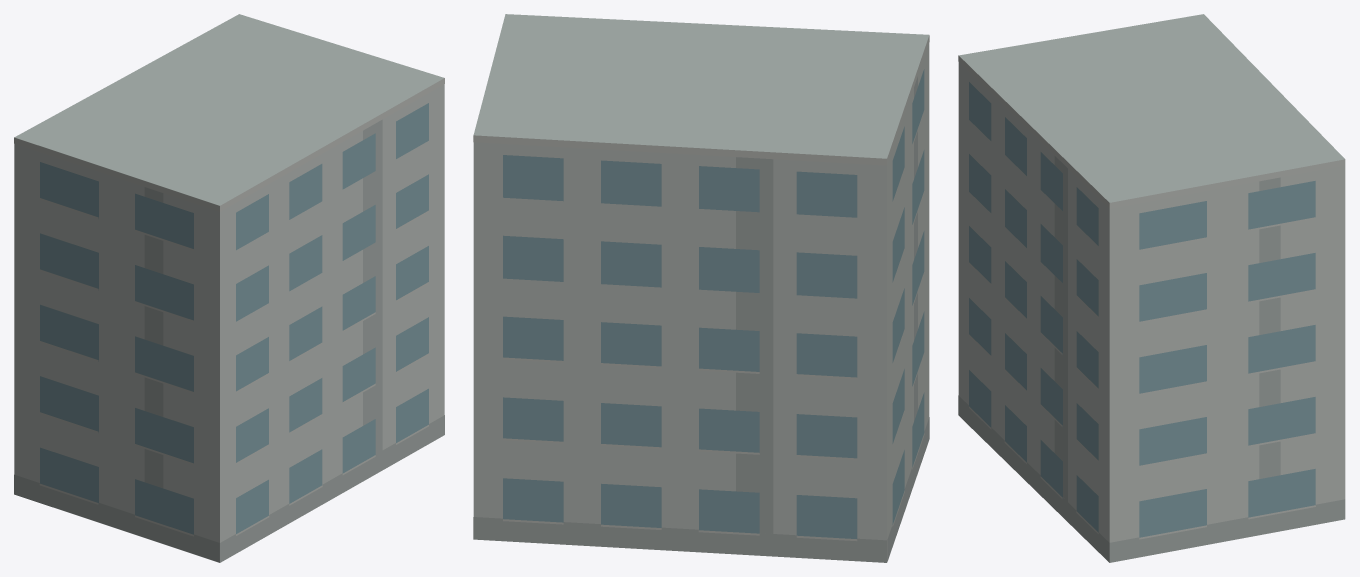
Rendered from survey-upis-33002793.glb.
3 views of the same model, side by side, from view 1: azimuth 30°, elevation 25°; view 2: azimuth 150°, elevation 25°; view 3: azimuth 270°, elevation 25° (orthographic). The views are drawn at different scales.
Parts seen in each view (by area): view 1: survey-upis-33002793.tmp; view 2: survey-upis-33002793.tmp; view 3: survey-upis-33002793.tmp.
Part boxes in pixels (x1,y1,x2,y2): survey-upis-33002793.tmp: [14, 14, 444, 562]; survey-upis-33002793.tmp: [473, 14, 929, 562]; survey-upis-33002793.tmp: [958, 14, 1345, 562].
Size of the model in its own units: 15.99 by 14.2 by 13.83.
